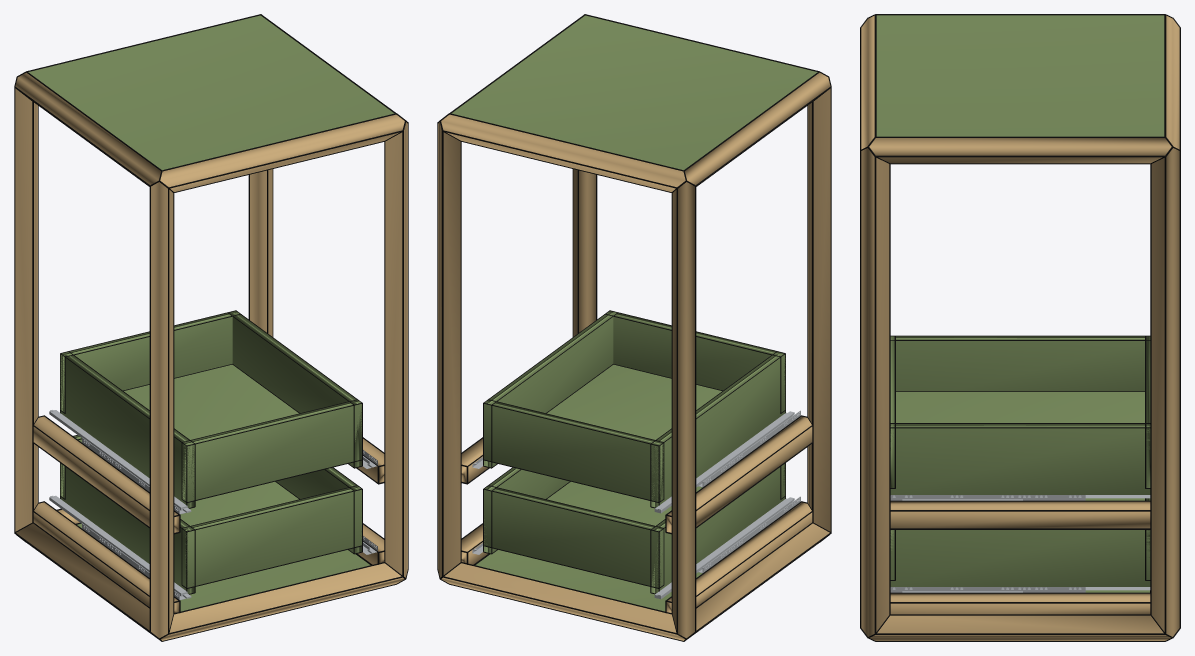
The model's file is 014-servante.glb.
3 views of the same model, side by side, from view 1: azimuth 30°, elevation 25°; view 2: azimuth 150°, elevation 25°; view 3: azimuth 270°, elevation 25° (orthographic). The views are drawn at different scales.
Visible parts, largest first — view 1: panneau-dessus_exterieur, drawer-box-fond-mod-0, drawer-box-fond-mod-1, arete-Z0, arete-Z1, arete-Z2, drawer-box-joue_g-mod-1, drawer-box-dessous-mod-1, drawer-box-arriere-mod-1, drawer-box-joue_d-mod-1, arete-X2, arete-X0 (+25 smaller); view 2: panneau-dessus_exterieur, drawer-box-arriere-mod-1, drawer-box-arriere-mod-0, arete-Z2, arete-Z3, arete-Z0, drawer-box-joue_g-mod-1, drawer-box-dessous-mod-1, drawer-box-fond-mod-1, arete-X3, drawer-box-joue_d-mod-1, arete-X1 (+27 smaller); view 3: panneau-dessus_exterieur, drawer-box-joue_d-mod-1, drawer-box-joue_d-mod-0, drawer-box-joue_g-mod-1, arete-Z1, arete-Z3, drawer-box-dessous-mod-1, arete-Y3, drawer-tr-drawer-traverse-right-mod-1, arete-Y1, drawer-tr-drawer-traverse-right-mod-0, arete-wire-Z1 (+16 smaller).
Part boxes in pixels (bbox=[...]): panneau-dessus_exterieur: bbox=[28, 15, 394, 170]; drawer-box-fond-mod-0: bbox=[183, 486, 361, 587]; drawer-box-fond-mod-1: bbox=[182, 400, 361, 501]; arete-Z0: bbox=[151, 182, 173, 638]; arete-Z1: bbox=[385, 122, 407, 577]; arete-Z2: bbox=[15, 88, 37, 531]; drawer-box-joue_g-mod-1: bbox=[60, 354, 194, 507]; drawer-box-dessous-mod-1: bbox=[124, 364, 298, 439]; drawer-box-arriere-mod-1: bbox=[60, 311, 239, 412]; drawer-box-joue_d-mod-1: bbox=[229, 311, 361, 467]; arete-X2: bbox=[160, 114, 404, 191]; arete-X0: bbox=[161, 563, 404, 640]; panneau-dessus_exterieur: bbox=[451, 15, 817, 170]; drawer-box-arriere-mod-1: bbox=[484, 400, 663, 501]; drawer-box-arriere-mod-0: bbox=[484, 486, 662, 587]; arete-Z2: bbox=[672, 182, 694, 638]; arete-Z3: bbox=[438, 122, 460, 577]; arete-Z0: bbox=[808, 88, 830, 531]; drawer-box-joue_g-mod-1: bbox=[651, 353, 785, 507]; drawer-box-dessous-mod-1: bbox=[547, 364, 721, 439]; drawer-box-fond-mod-1: bbox=[606, 311, 785, 407]; arete-X3: bbox=[441, 114, 685, 191]; drawer-box-joue_d-mod-1: bbox=[484, 311, 616, 467]; arete-X1: bbox=[441, 563, 684, 640]; panneau-dessus_exterieur: bbox=[876, 15, 1164, 136]; drawer-box-joue_d-mod-1: bbox=[890, 424, 1150, 494]; drawer-box-joue_d-mod-0: bbox=[890, 530, 1150, 586]; drawer-box-joue_g-mod-1: bbox=[896, 336, 1148, 391]; arete-Z1: bbox=[861, 148, 889, 636]; arete-Z3: bbox=[1151, 148, 1179, 636]; drawer-box-dessous-mod-1: bbox=[896, 392, 1144, 422]; arete-Y3: bbox=[869, 138, 1171, 163]; drawer-tr-drawer-traverse-right-mod-1: bbox=[890, 501, 1150, 528]; arete-Y1: bbox=[869, 615, 1171, 640]; drawer-tr-drawer-traverse-right-mod-0: bbox=[890, 593, 1150, 614]; arete-wire-Z1: bbox=[860, 146, 890, 634].
Bounding box in the file's own units: 0.4738 × 0.8238 × 0.4738.
